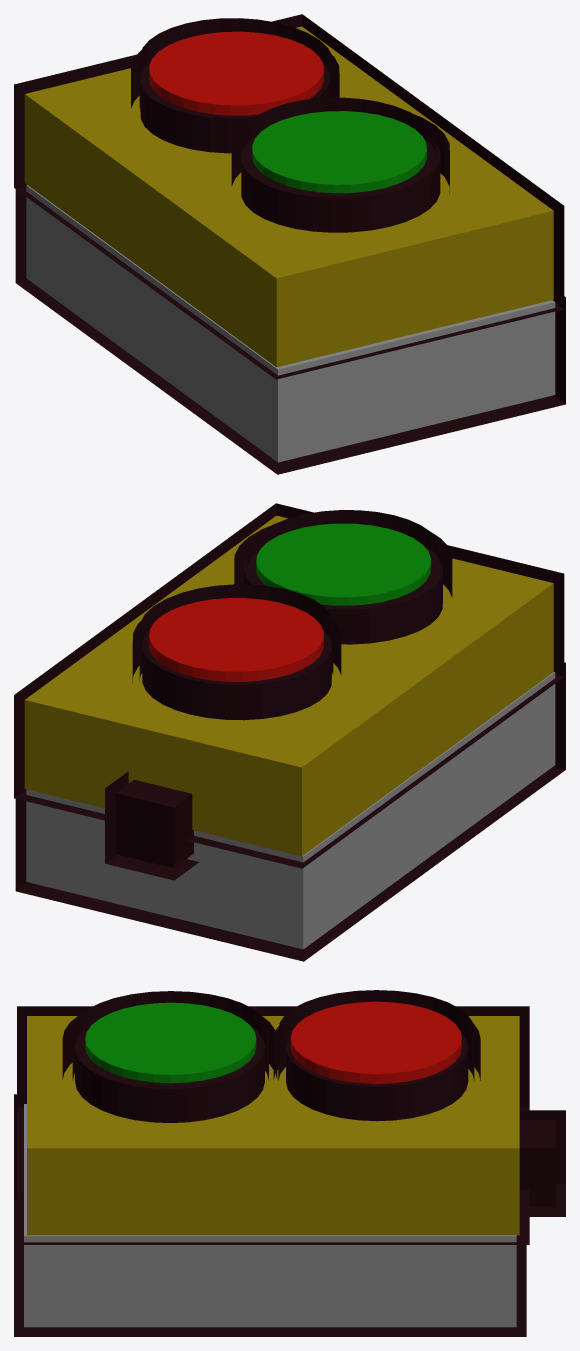
File: CNTRL2.glb
3 renders of one model, top to bottom at view 1: azimuth 30°, elevation 25°; view 2: azimuth 150°, elevation 25°; view 3: azimuth 270°, elevation 25°, orthographic. The views are drawn at different scales.
Visible parts, largest first — view 1: Cube; view 2: Cube; view 3: Cube.
Boxes of the visible parts, left/top/right/bottom form: Cube: left=14, top=14, right=565, bottom=474; Cube: left=14, top=503, right=565, bottom=961; Cube: left=14, top=990, right=565, bottom=1336.
Size of the model in its own units: 0.8476 by 0.7064 by 1.44.
